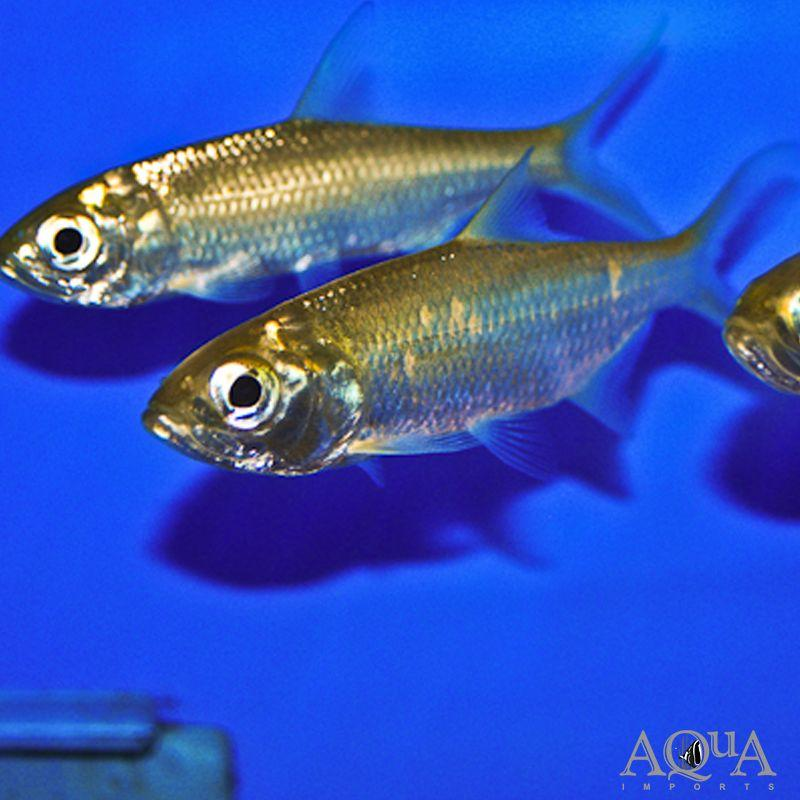Indo-Pacific Tarpon: (140, 148, 791, 486), (0, 0, 656, 314)
